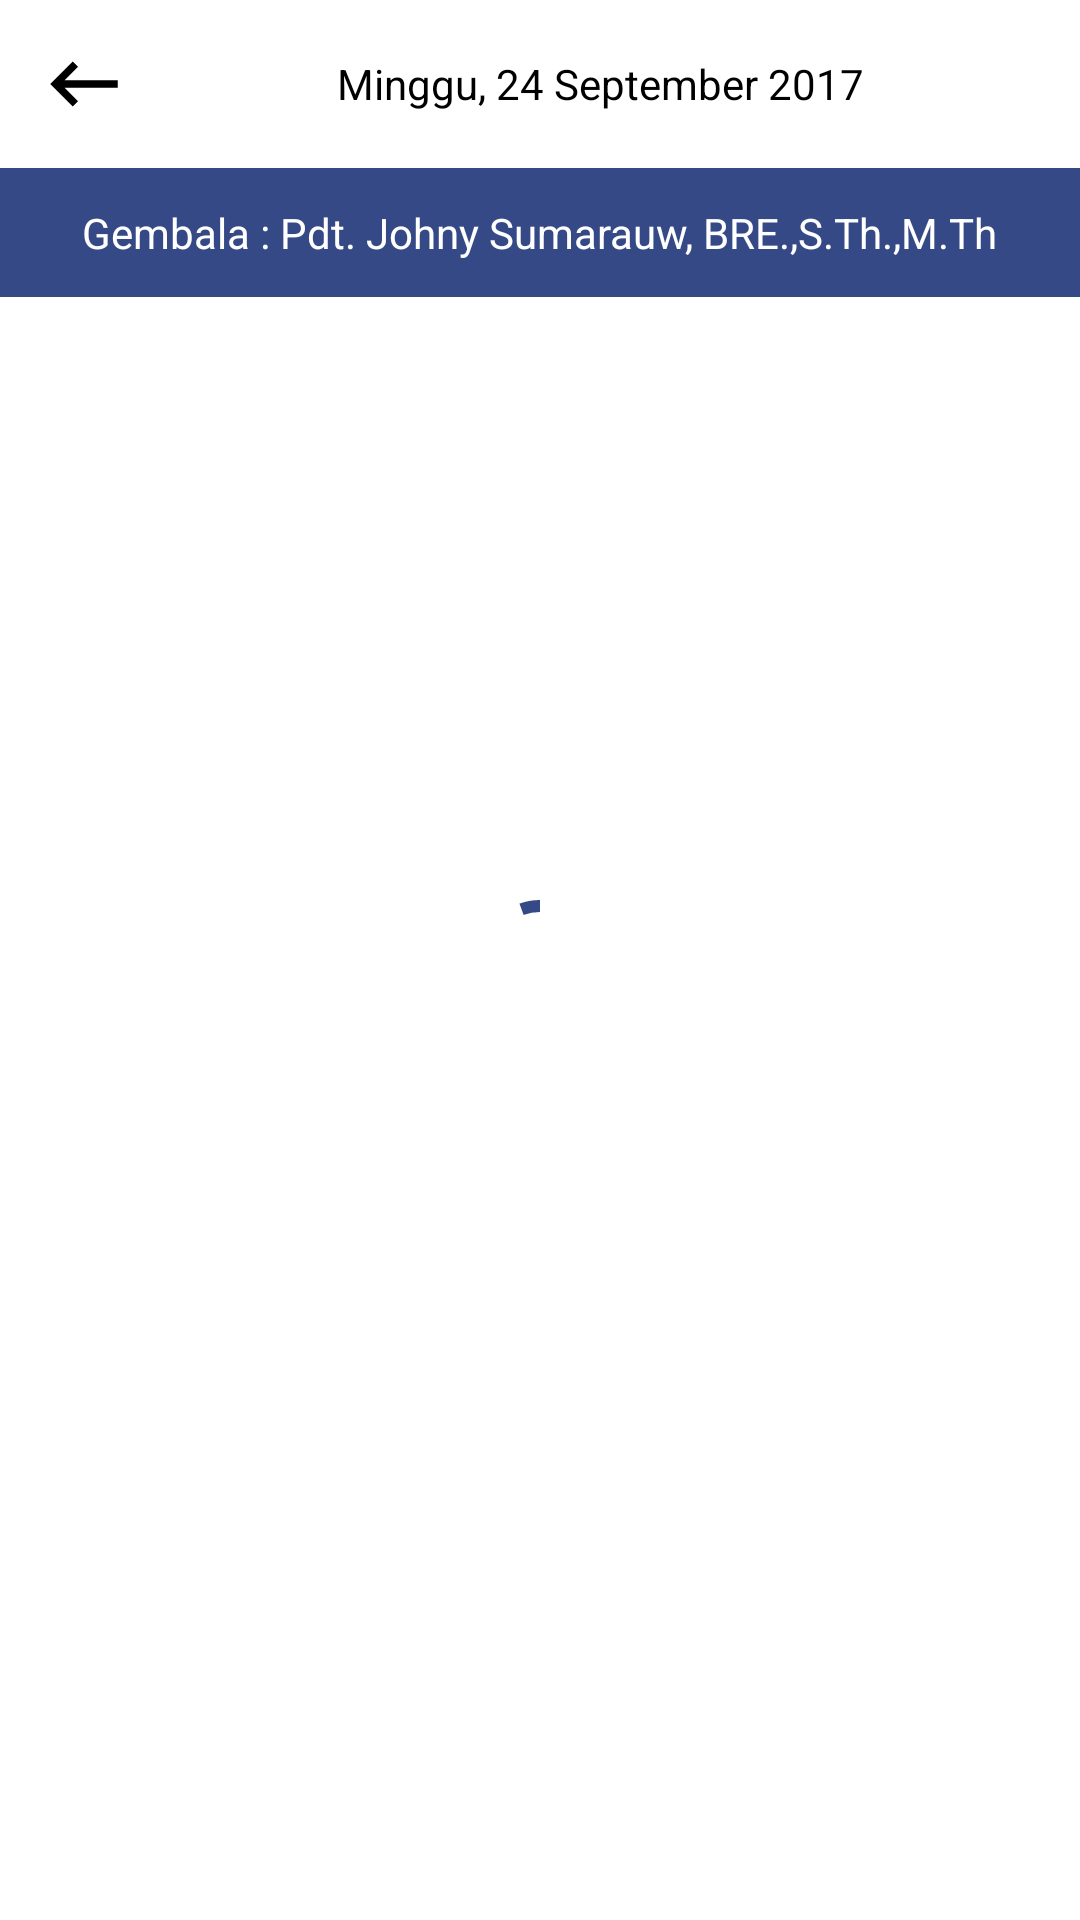

Screen size 1080 × 1920. Icon name, then its center in pixels as [x,y]:
back arrow: [84,84]
